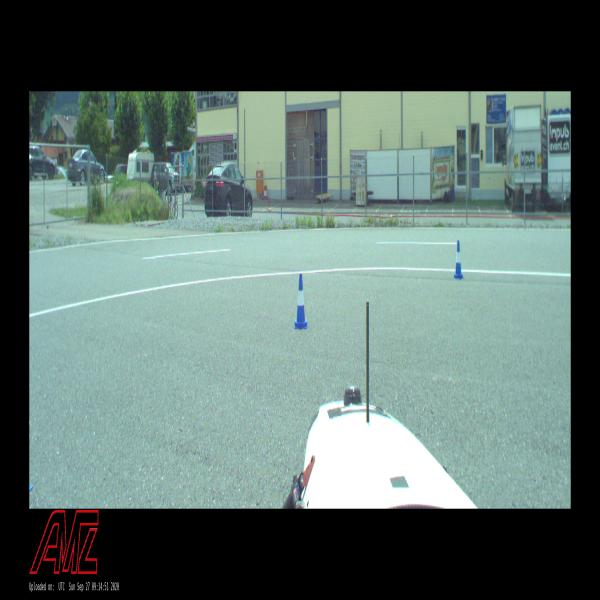blue_cone: (294, 274, 308, 329), (454, 240, 463, 278)
